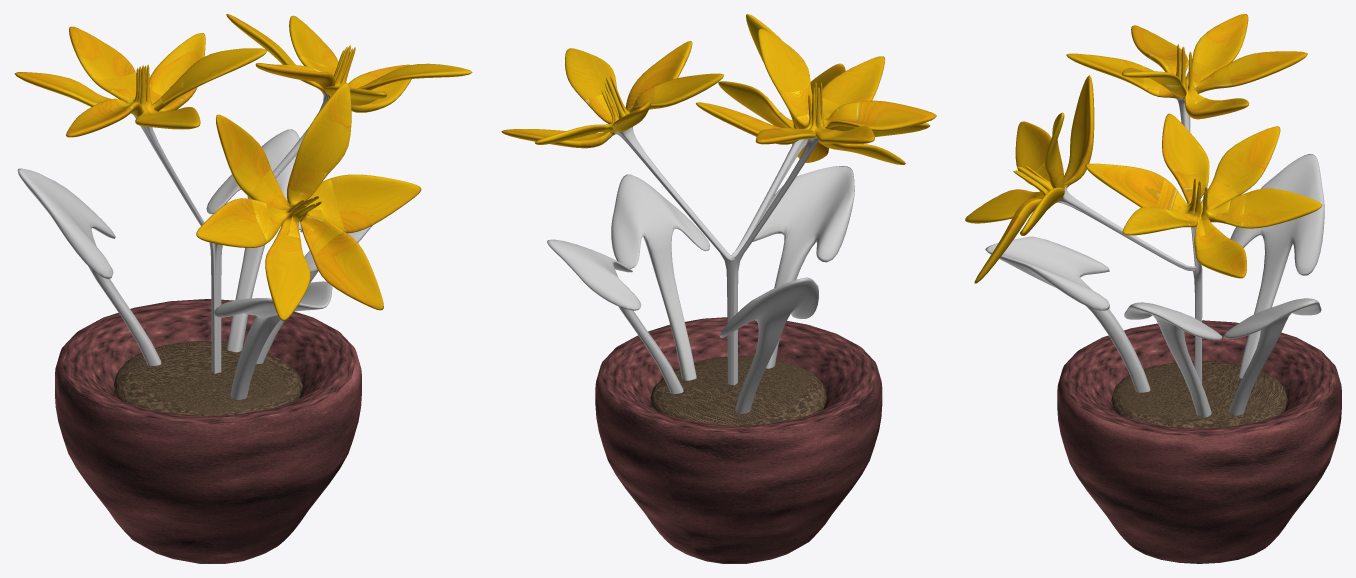
Rendered from smallflowerpot.fbx.
3 renders of one model, left to right at view 1: azimuth 30°, elevation 25°; view 2: azimuth 150°, elevation 25°; view 3: azimuth 270°, elevation 25°, orthographic. The views are drawn at different scales.
Visible parts, largest first — view 1: pot, tigerlily2, dirt, leaves, plants:leaves, leaves1, leaves2; view 2: pot, tigerlily2, dirt, leaves2, plants:leaves, leaves, leaves1; view 3: pot, tigerlily2, dirt, leaves, plants:leaves, leaves1, leaves2.
Part boxes in pixels (x1=…): pot: x1=55, y1=299, x2=361, y2=563; tigerlily2: x1=14, y1=14, x2=472, y2=373; dirt: x1=113, y1=341, x2=302, y2=415; leaves: x1=17, y1=168, x2=161, y2=365; plants:leaves: x1=214, y1=281, x2=332, y2=399; leaves1: x1=206, y1=129, x2=301, y2=352; leaves2: x1=256, y1=225, x2=372, y2=363; pot: x1=595, y1=317, x2=882, y2=563; tigerlily2: x1=501, y1=14, x2=936, y2=385; dirt: x1=650, y1=355, x2=827, y2=425; leaves2: x1=611, y1=174, x2=710, y2=380; plants:leaves: x1=752, y1=166, x2=854, y2=368; leaves: x1=720, y1=277, x2=818, y2=413; leaves1: x1=547, y1=239, x2=683, y2=393; pot: x1=1057, y1=320, x2=1341, y2=563; tigerlily2: x1=965, y1=14, x2=1322, y2=383; dirt: x1=1111, y1=361, x2=1287, y2=428; leaves: x1=1230, y1=154, x2=1324, y2=378; plants:leaves: x1=985, y1=236, x2=1150, y2=392; leaves1: x1=1224, y1=298, x2=1321, y2=415; leaves2: x1=1124, y1=302, x2=1222, y2=417.
Bounding box in the file's own units: 0.5283 × 0.6401 × 0.4565.
